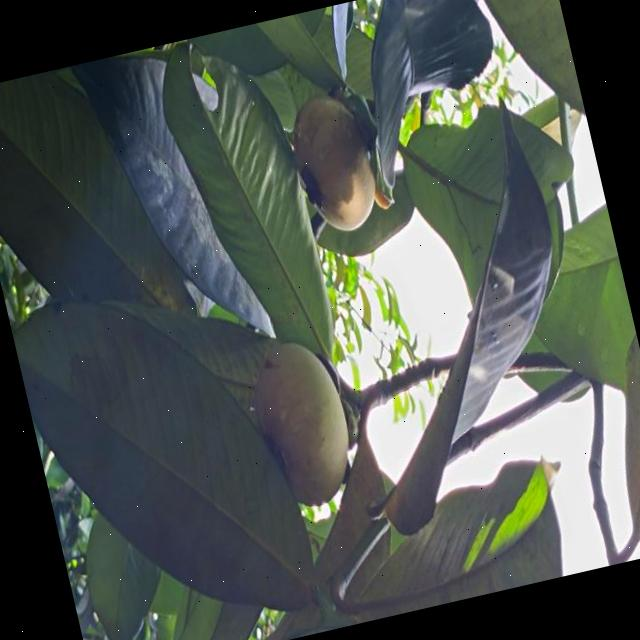mangosteen: (218, 300, 393, 540), (273, 51, 406, 245)
